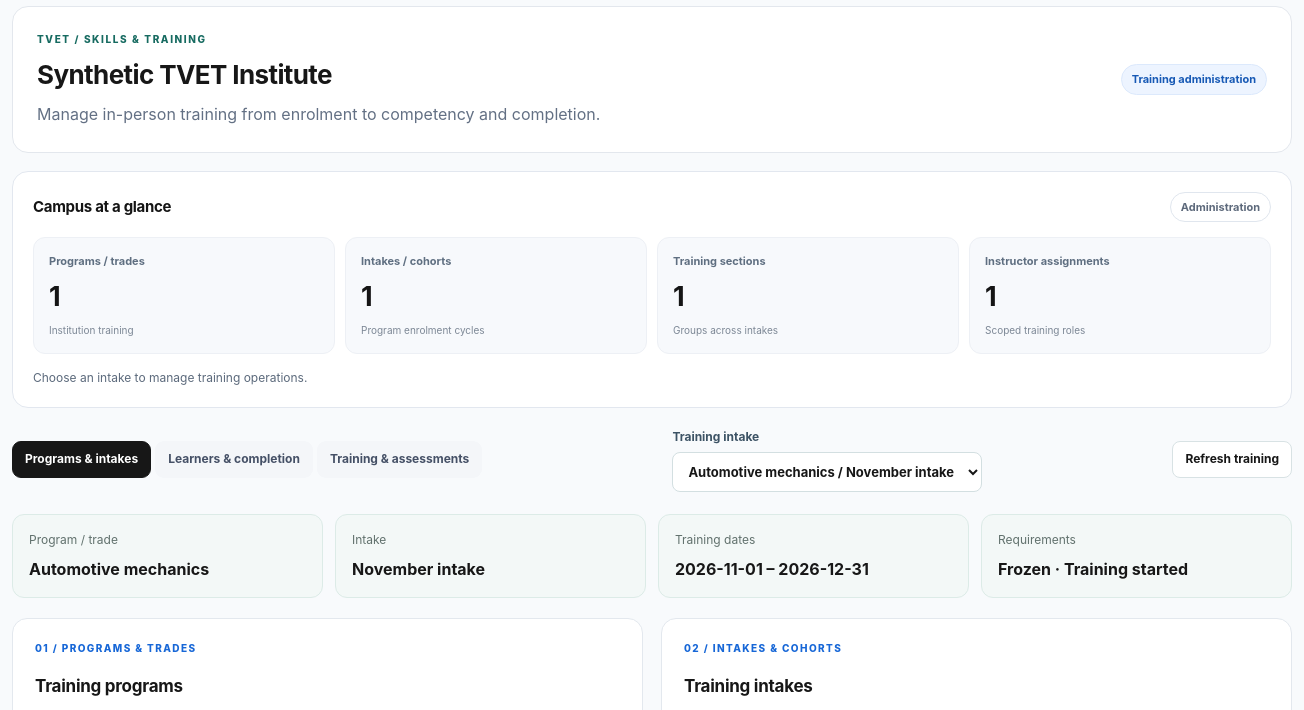
completion stays disabled until the report requirements are met
Click the button "Learners & completion": (234, 460) [155,441,313,478]
(page scrolled)
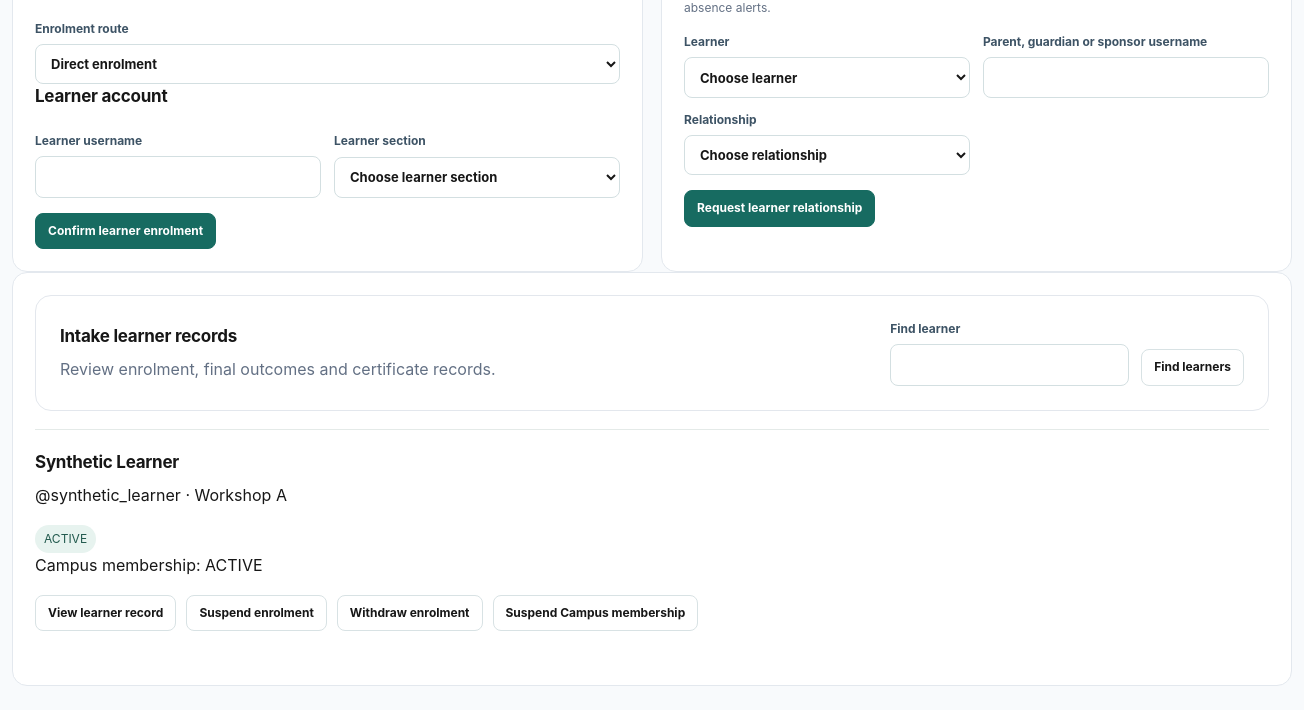
Click the button "View learner record": (106, 613) [35,595,176,632]
(page scrolled)
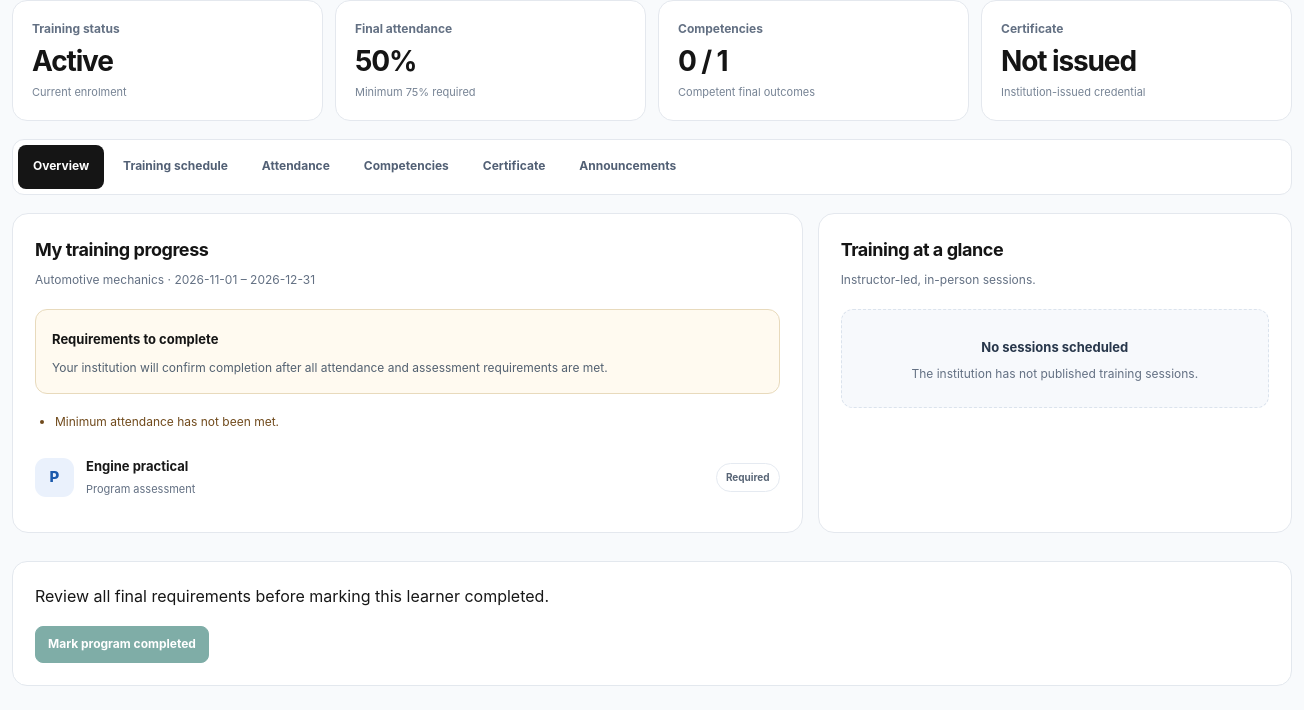
Now the list item "Minimum attendance has not been met." is shown, box [55,414,279,429]
Now the button "Mark program completed" is disabled, box [35,626,209,663]
